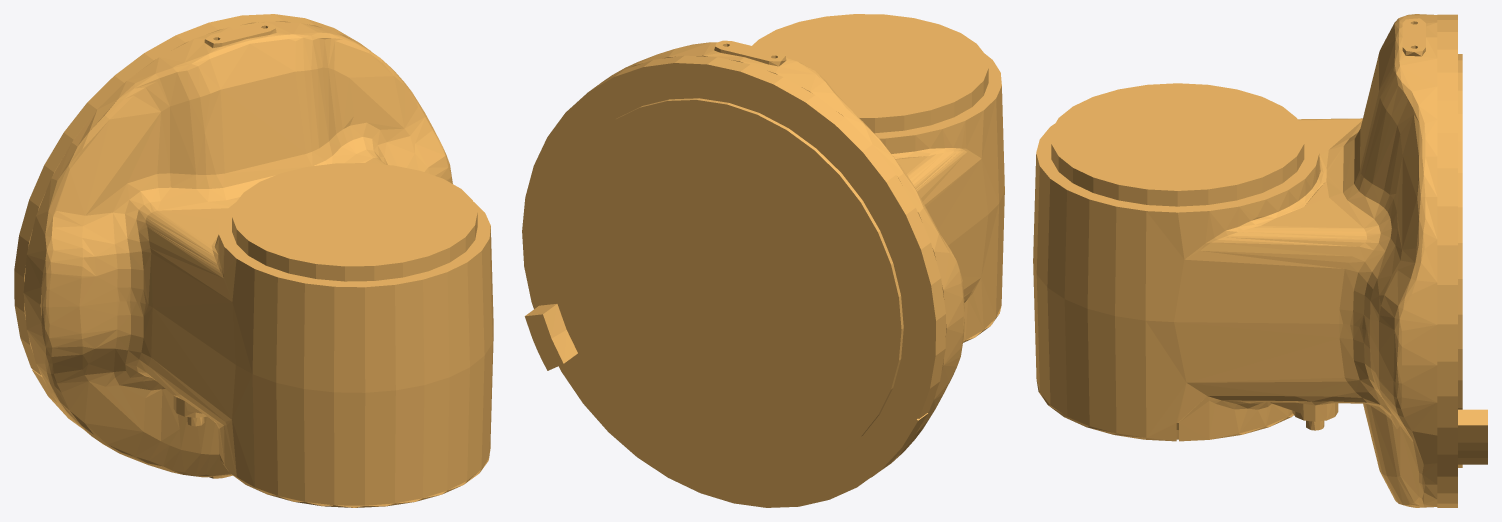
File: IRB120Link1.dae
The picture shows the model from 3 angles, left to right: view 1: azimuth 30°, elevation 25°; view 2: azimuth 150°, elevation 25°; view 3: azimuth 270°, elevation 25°; orthographic projection. The views are drawn at different scales.
Visible parts, largest first — view 1: IRB120Link1; view 2: IRB120Link1; view 3: IRB120Link1.
Boxes of the visible parts, bbox=[...] form: IRB120Link1: bbox=[14, 14, 493, 507]; IRB120Link1: bbox=[522, 14, 1004, 507]; IRB120Link1: bbox=[1033, 14, 1487, 507].
Size of the model in its own units: 0.215 by 0.198 by 0.217.
